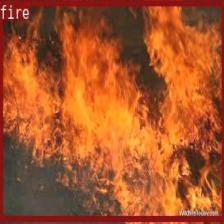fire: (0, 0, 224, 219)
